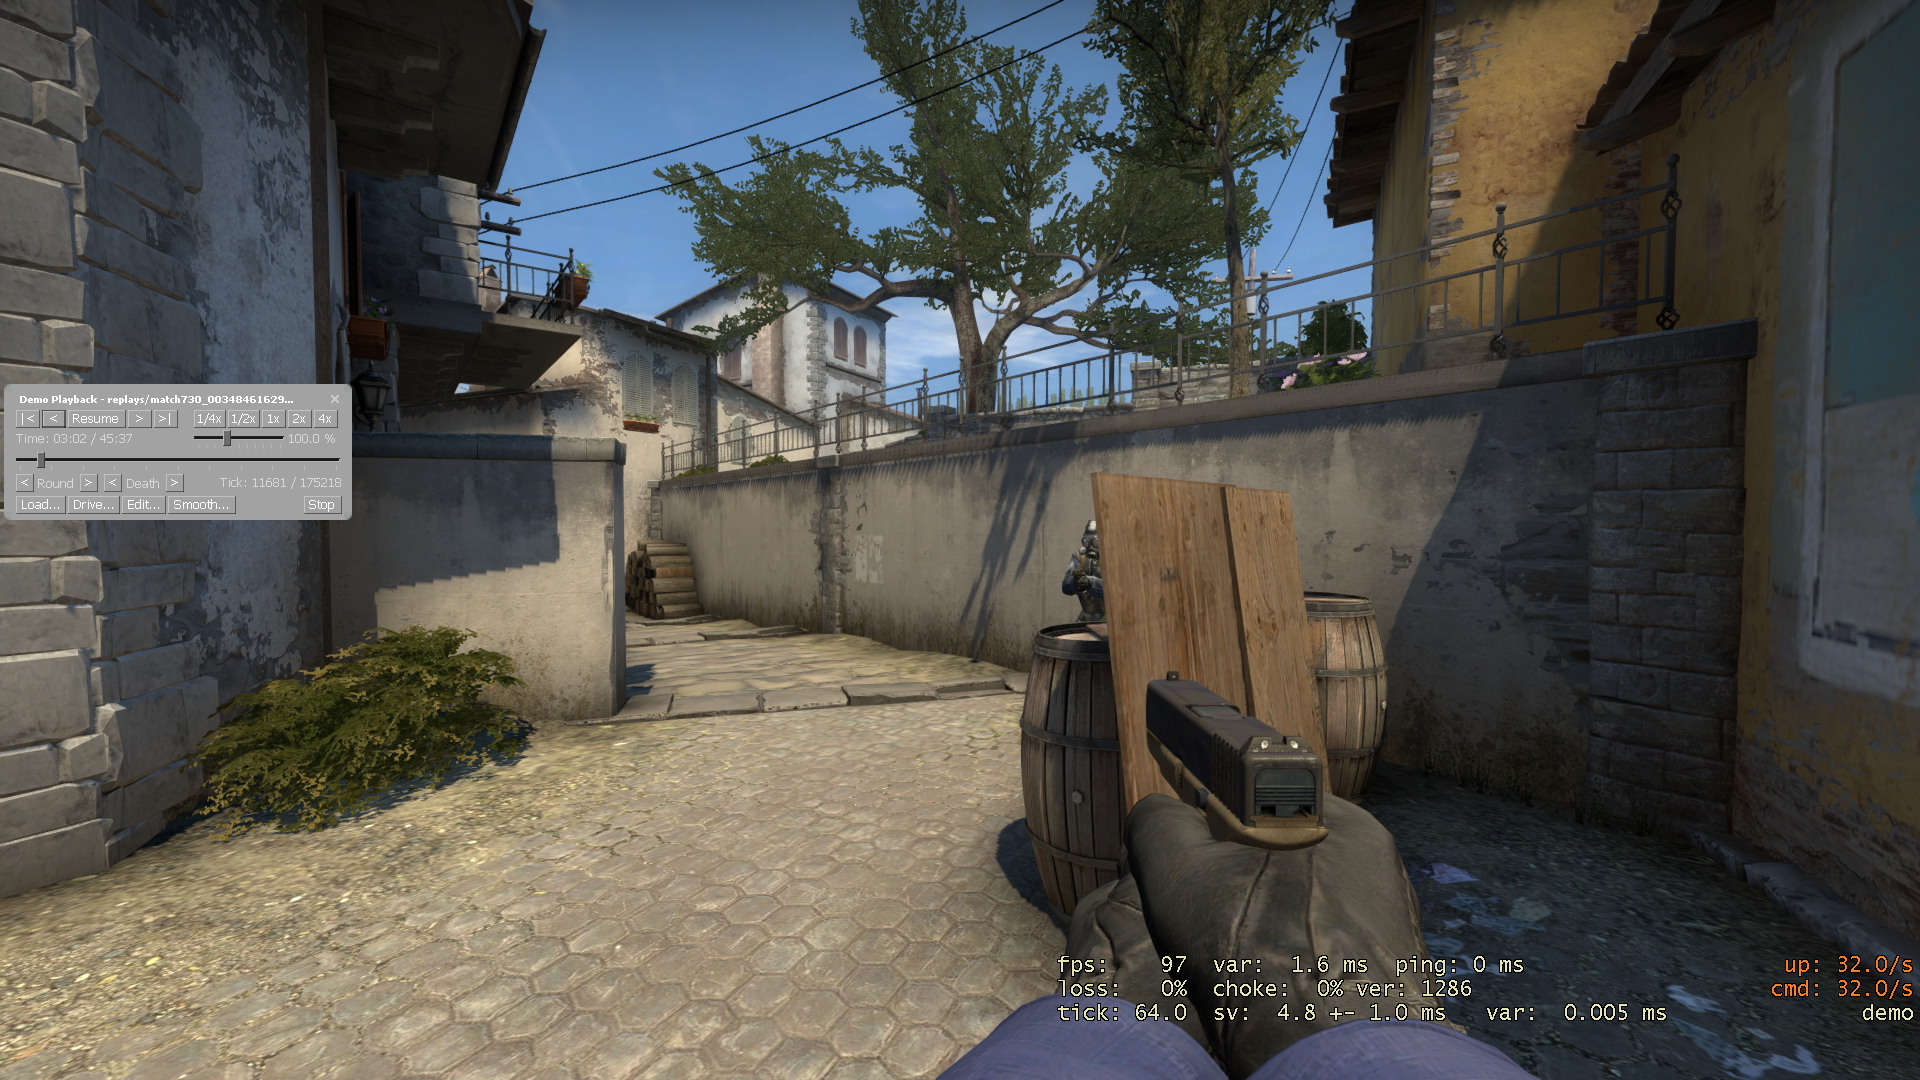ct: (1063, 520, 1109, 621)
